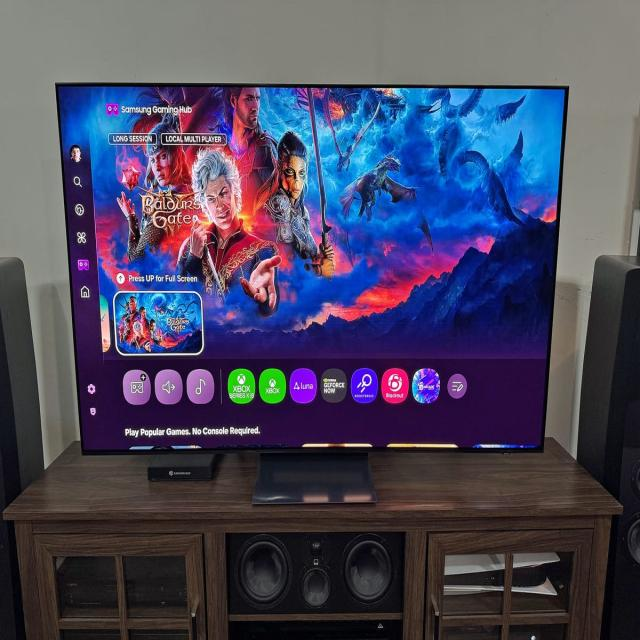electronics: (58, 85, 566, 452), (5, 440, 616, 637), (576, 255, 639, 638), (226, 531, 403, 639), (577, 255, 639, 495), (227, 531, 403, 614), (0, 256, 43, 511), (0, 257, 43, 503), (252, 452, 375, 503), (341, 533, 403, 609), (234, 538, 292, 607), (123, 557, 187, 615), (55, 556, 117, 615), (55, 558, 118, 616), (123, 557, 187, 614), (229, 620, 401, 639), (0, 519, 24, 639), (0, 521, 24, 639), (443, 555, 506, 599), (510, 552, 563, 596), (445, 555, 504, 593), (147, 453, 215, 480), (510, 552, 558, 590), (445, 569, 503, 593), (300, 568, 330, 605), (622, 512, 639, 565), (444, 580, 502, 595), (440, 625, 501, 639), (508, 624, 564, 639), (513, 575, 557, 594), (442, 626, 501, 639), (509, 625, 563, 639), (512, 565, 546, 587), (301, 558, 316, 604), (128, 628, 188, 639), (61, 628, 118, 639), (62, 629, 117, 639), (130, 629, 169, 639), (41, 607, 58, 627), (22, 569, 36, 593), (588, 605, 598, 627), (179, 608, 190, 625), (136, 608, 153, 619), (132, 632, 158, 639), (160, 379, 171, 393), (106, 102, 118, 114), (30, 606, 39, 622), (594, 545, 605, 557), (0, 486, 6, 507), (123, 555, 127, 578), (112, 614, 118, 626), (197, 621, 203, 632), (283, 614, 295, 619), (312, 543, 317, 552), (516, 571, 521, 580), (128, 614, 134, 621), (633, 468, 638, 476), (59, 618, 65, 624), (231, 604, 237, 609), (120, 599, 123, 609), (632, 476, 637, 482), (0, 459, 2, 473), (335, 538, 339, 544), (155, 581, 161, 585), (174, 578, 179, 582), (170, 570, 174, 575), (32, 559, 35, 565), (598, 562, 603, 565), (558, 595, 561, 599), (530, 570, 534, 573), (150, 570, 152, 575), (512, 606, 515, 609), (526, 637, 530, 639), (97, 610, 99, 614), (533, 575, 537, 577), (274, 619, 276, 621), (176, 620, 179, 621), (36, 601, 37, 604), (629, 425, 630, 427), (91, 638, 92, 639), (127, 624, 128, 625), (124, 582, 125, 583), (314, 556, 314, 557), (320, 543, 321, 543), (457, 639, 461, 639), (560, 569, 561, 569), (158, 622, 158, 623), (171, 578, 172, 578), (551, 568, 552, 568)
